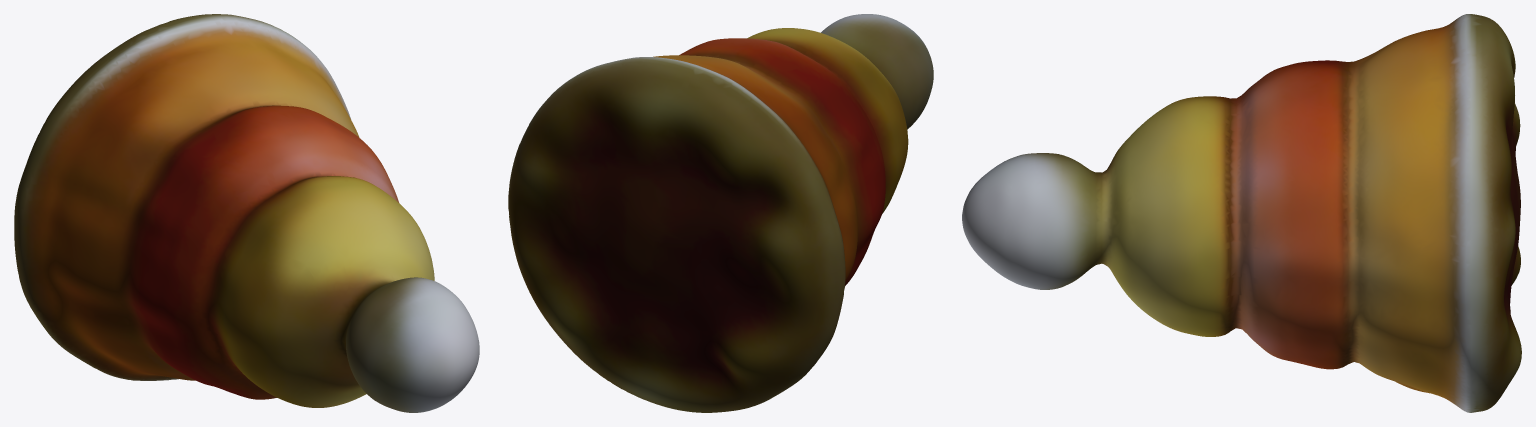
File: chicken.glb
3 renders of one model, left to right at view 1: azimuth 30°, elevation 25°; view 2: azimuth 150°, elevation 25°; view 3: azimuth 270°, elevation 25°, orthographic. The views are drawn at different scales.
Bounding box in the file's own units: 0.7106 × 0.7129 × 0.9996.
